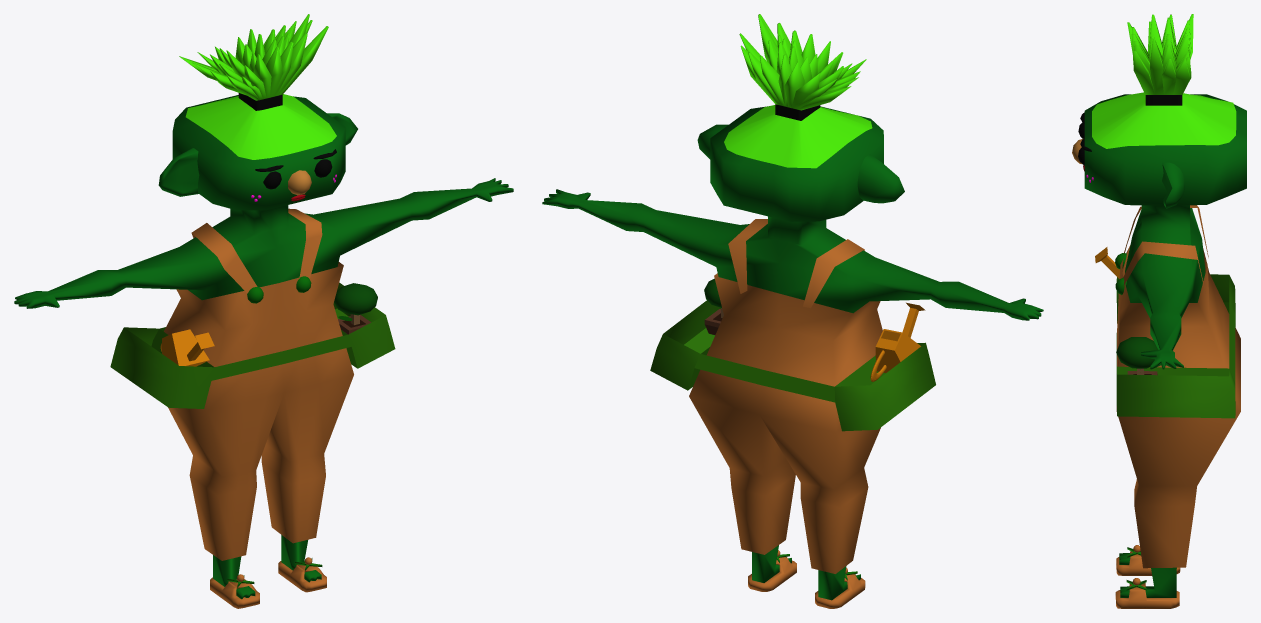
File: karakter 4(yeşil karakter) sonun sonu.fbx
3 views of the same model, side by side, from view 1: azimuth 30°, elevation 25°; view 2: azimuth 150°, elevation 25°; view 3: azimuth 270°, elevation 25° (orthographic).
Visible parts, largest first — view 1: İkosfer, Cube, Cube.002, Cube.004; view 2: İkosfer, Cube, Cube.004, Cube.002; view 3: Cube, İkosfer, Cube.002, Cube.004.
Part boxes in pixels (<box>): İkosfer: <box>110,208,395,560</box>; Cube: <box>14,14,513,599</box>; Cube.002: <box>278,557,326,592</box>; Cube.004: <box>210,574,259,608</box>; İkosfer: <box>650,219,935,573</box>; Cube: <box>542,14,1043,600</box>; Cube.004: <box>815,568,865,608</box>; Cube.002: <box>748,550,796,591</box>; Cube: <box>1072,14,1246,597</box>; İkosfer: <box>1095,205,1240,568</box>; Cube.002: <box>1115,578,1179,608</box>; Cube.004: <box>1116,545,1180,575</box>.
Bounding box in the file's own units: 114 × 125 × 34.73.
